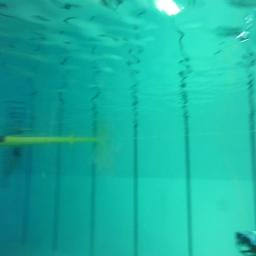Full: (234, 230, 256, 256)
